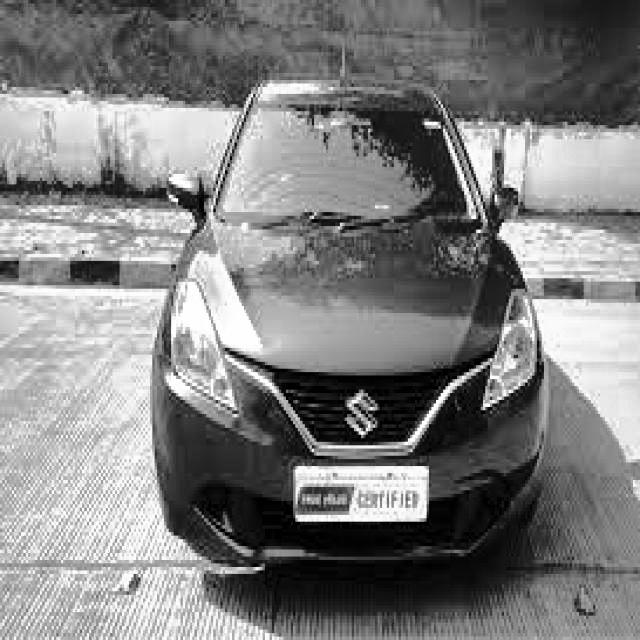Car: (151, 78, 551, 594)
